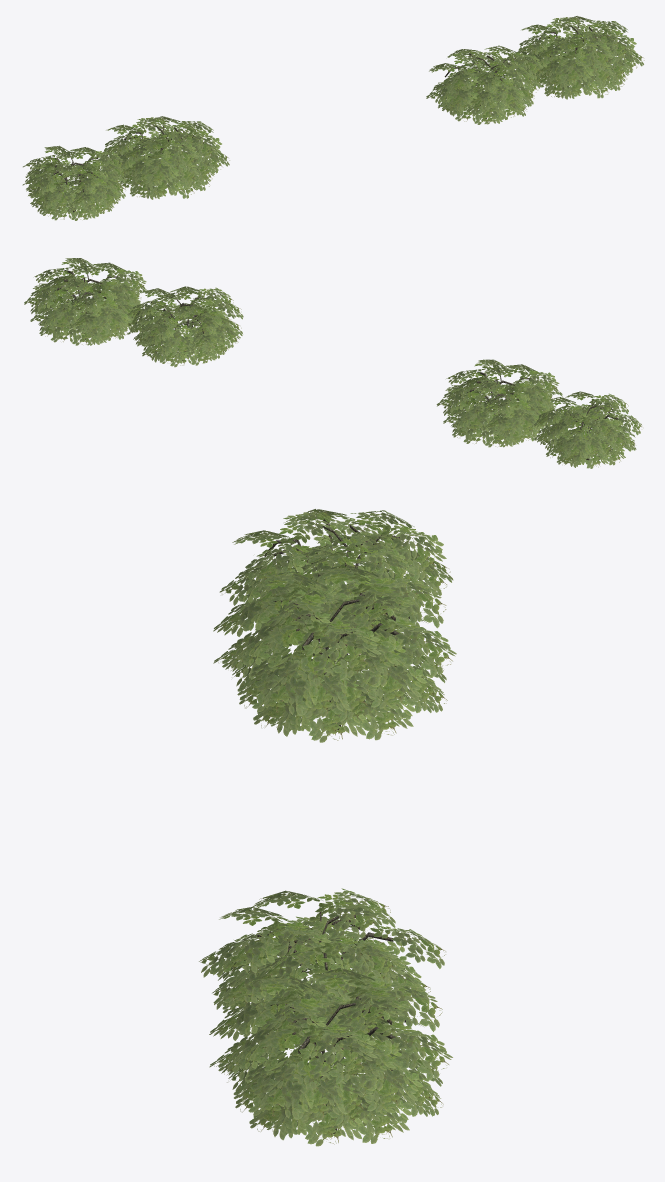
Rendered from Tree_Harbor.fbx.
3 views of the same model, one above another, from view 1: azimuth 30°, elevation 25°; view 2: azimuth 150°, elevation 25°; view 3: azimuth 270°, elevation 25° (orthographic). The views are drawn at different scales.
Visible parts, largest first — view 1: Vegetation_Shurb_01A_1, Vegetation_Shurb_01A_3, Vegetation_Shurb_01A, Vegetation_Shurb_01A_2; view 2: Vegetation_Shurb_01A_1, Vegetation_Shurb_01A_3, Vegetation_Shurb_01A, Vegetation_Shurb_01A_2; view 3: Vegetation_Shurb_01A_3, Vegetation_Shurb_01A_1, Vegetation_Shurb_01A, Vegetation_Shurb_01A_2.
Boxes of the visible parts, left/top/right/bottom form: Vegetation_Shurb_01A_1: left=511, top=16, right=644, bottom=99; Vegetation_Shurb_01A_3: left=96, top=116, right=229, bottom=199; Vegetation_Shurb_01A: left=426, top=45, right=543, bottom=124; Vegetation_Shurb_01A_2: left=22, top=145, right=126, bottom=220; Vegetation_Shurb_01A_1: left=24, top=258, right=149, bottom=345; Vegetation_Shurb_01A_3: left=436, top=359, right=562, bottom=447; Vegetation_Shurb_01A: left=127, top=286, right=243, bottom=367; Vegetation_Shurb_01A_2: left=532, top=391, right=641, bottom=468; Vegetation_Shurb_01A_3: left=213, top=564, right=456, bottom=742; Vegetation_Shurb_01A_1: left=209, top=968, right=452, bottom=1146; Vegetation_Shurb_01A: left=199, top=888, right=445, bottom=1050; Vegetation_Shurb_01A_2: left=219, top=509, right=453, bottom=649.
Bounding box in the file's own units: 1128 × 114 × 232.
